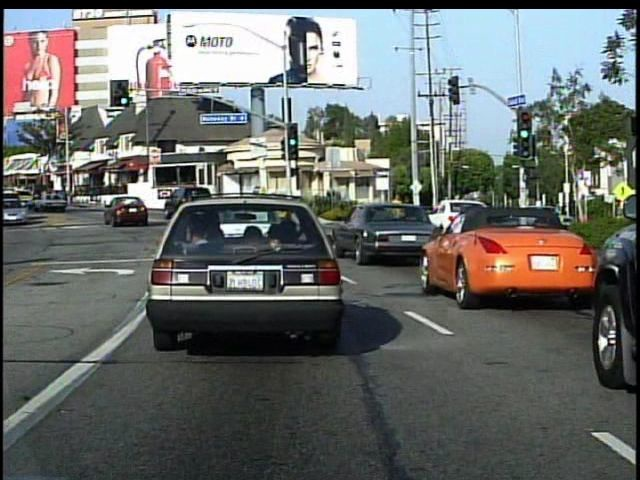person: (387, 191, 407, 230), (402, 192, 420, 233)
